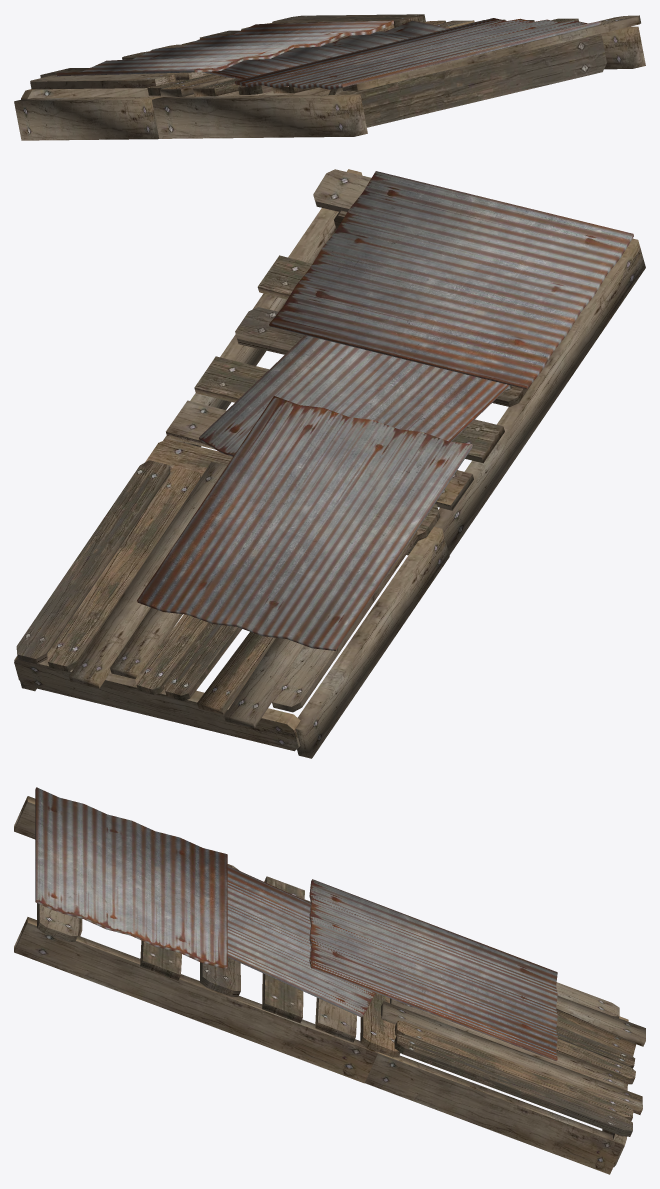
File: lvl4platformramp.glb
The picture shows the model from 3 angles, top to bottom: view 1: azimuth 30°, elevation 25°; view 2: azimuth 150°, elevation 25°; view 3: azimuth 270°, elevation 25°; orthographic projection. The views are drawn at different scales.
Visible parts, largest first — view 1: Lvl4PlatformRamp_LOD0; view 2: Lvl4PlatformRamp_LOD0; view 3: Lvl4PlatformRamp_LOD0.
Part boxes in pixels (bbox=[...]): Lvl4PlatformRamp_LOD0: bbox=[14, 14, 645, 140]; Lvl4PlatformRamp_LOD0: bbox=[14, 169, 645, 758]; Lvl4PlatformRamp_LOD0: bbox=[14, 787, 645, 1174].
Bounding box in the file's own units: 2.37 × 2.18 × 4.8.
2 materials, 2 textured.
